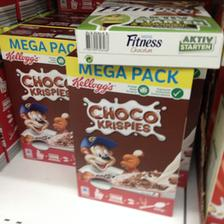Cerealien: (64, 56, 192, 216), (1, 24, 76, 164)
